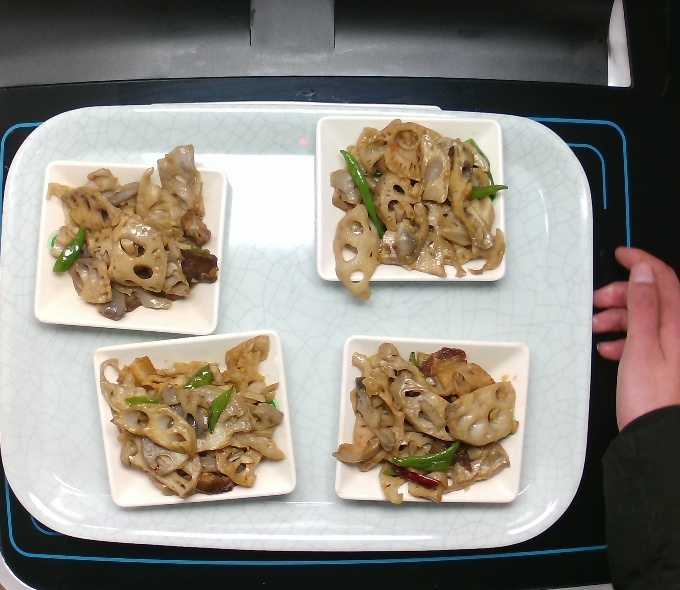wcq-OuPianChaoRou: (29, 139, 222, 322), (316, 121, 509, 304), (94, 330, 289, 505), (336, 338, 531, 513)
